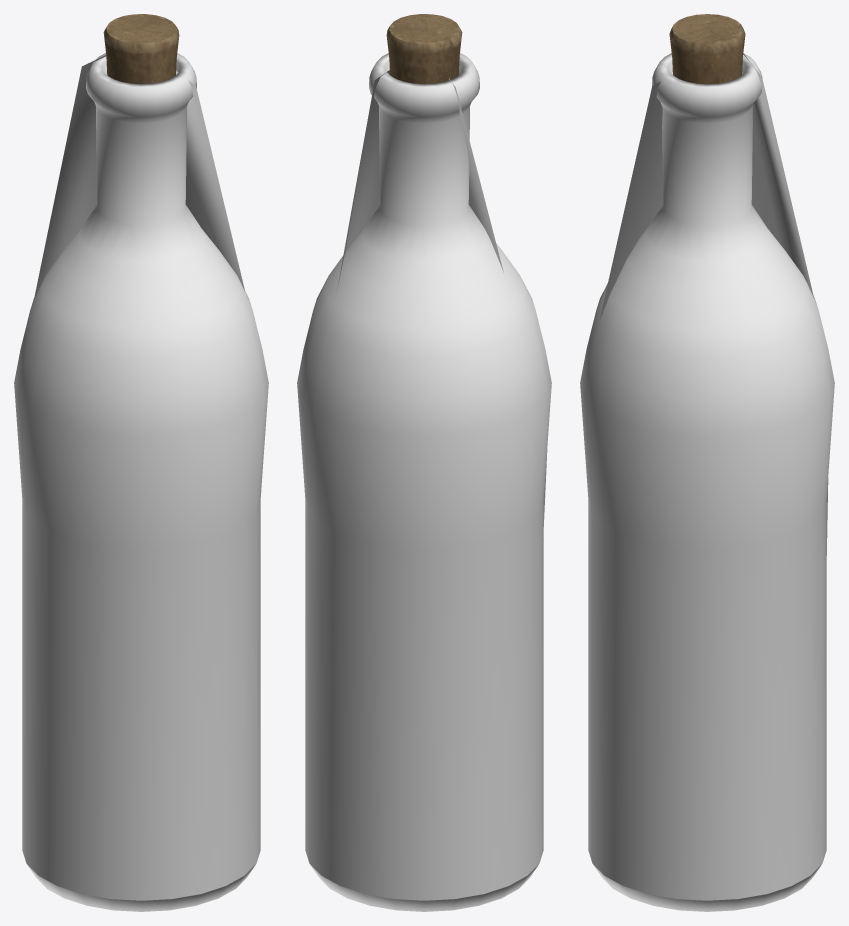
The model's file is SM_Bottle.gltf.
3 renders of one model, left to right at view 1: azimuth 30°, elevation 25°; view 2: azimuth 150°, elevation 25°; view 3: azimuth 270°, elevation 25°, orthographic.
Visible parts, largest first — view 1: SM_Bottle_LOD0, SM_Bottle_ConvexHulls; view 2: SM_Bottle_LOD0, SM_Bottle_ConvexHulls; view 3: SM_Bottle_LOD0, SM_Bottle_ConvexHulls.
Boxes of the visible parts, left/top/right/bottom form: SM_Bottle_LOD0: left=14, top=14, right=268, bottom=911; SM_Bottle_ConvexHulls: left=34, top=55, right=244, bottom=296; SM_Bottle_LOD0: left=297, top=14, right=551, bottom=911; SM_Bottle_ConvexHulls: left=307, top=70, right=547, bottom=578; SM_Bottle_LOD0: left=580, top=14, right=834, bottom=911; SM_Bottle_ConvexHulls: left=599, top=53, right=828, bottom=555.
Size of what is drawn, in the model's own units: 0.1115 by 0.4041 by 0.1115.
